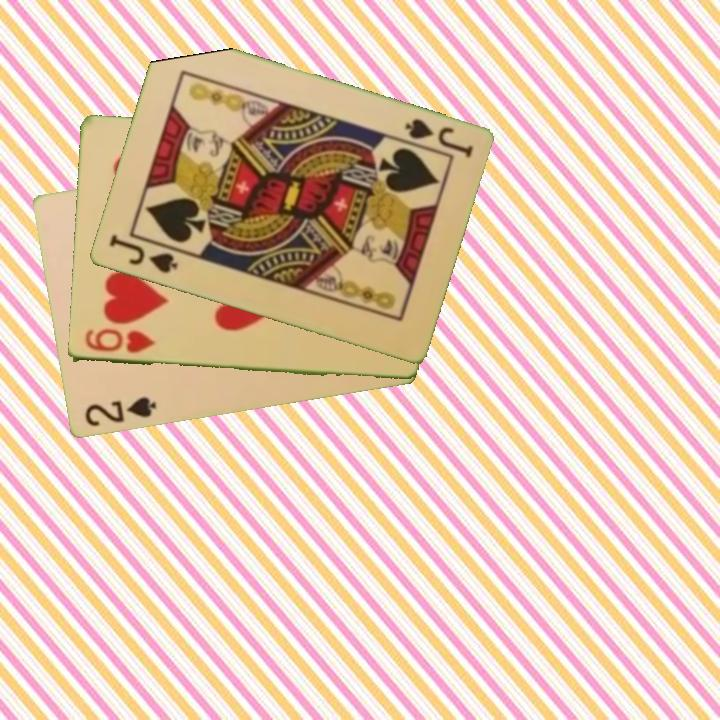2s: (81, 394, 159, 430)
6h: (81, 325, 158, 356)
Js: (105, 231, 181, 277), (400, 115, 476, 161)
